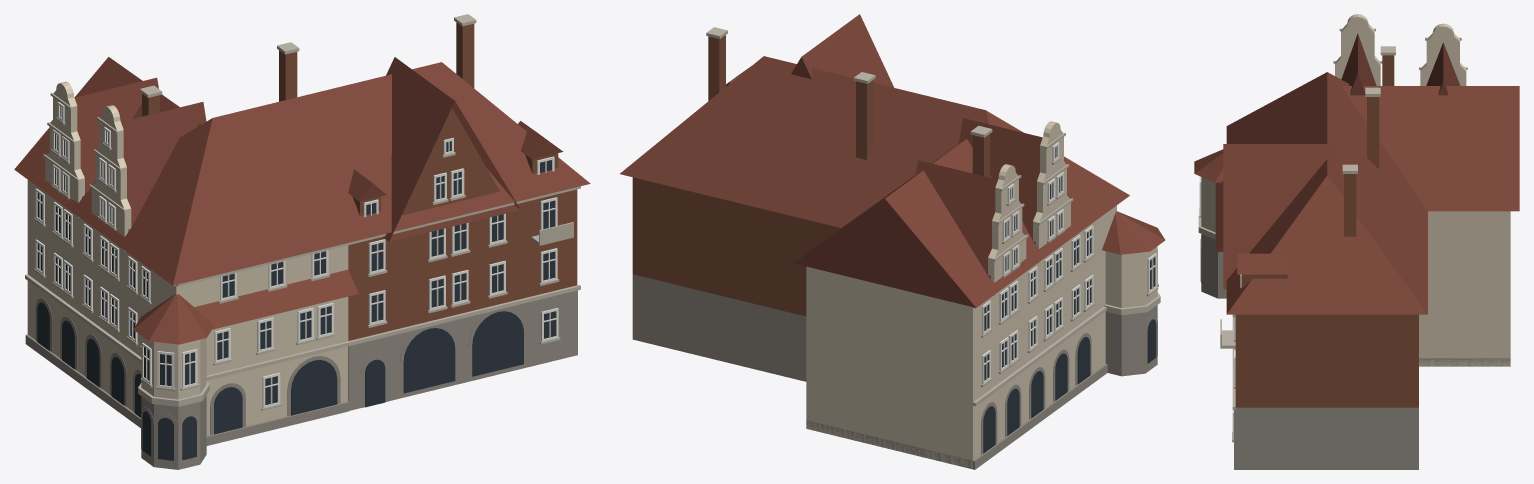
Rendered from kamienica_narozna.glb.
The picture shows the model from 3 angles, left to right: view 1: azimuth 30°, elevation 25°; view 2: azimuth 150°, elevation 25°; view 3: azimuth 270°, elevation 25°; orthographic projection. The views are drawn at different scales.
Visible parts, largest first — view 1: Roof, Walls, Glass, Frames, Trim, Oriel, Chimneys; view 2: Walls, Roof, Frames, Oriel, Glass, Trim, Chimneys; view 3: Roof, Walls, Chimneys, Oriel, Trim.
Part boxes in pixels (box(x1,y1,x2,y2)): Roof: box(14, 57, 590, 344); Walls: box(25, 81, 577, 445); Glass: box(37, 106, 555, 460); Frames: box(35, 102, 558, 408); Trim: box(25, 93, 580, 460); Oriel: box(138, 336, 209, 469); Chimneys: box(139, 14, 476, 116); Walls: box(632, 121, 1116, 469); Roof: box(620, 14, 1165, 307); Frames: box(982, 142, 1157, 384); Oriel: box(1104, 246, 1160, 376); Glass: box(983, 147, 1156, 453); Trim: box(973, 133, 1158, 454); Chimneys: box(706, 27, 992, 177); Roof: box(1194, 33, 1519, 314); Walls: box(1234, 14, 1510, 469); Chimneys: box(1342, 46, 1395, 236); Oriel: box(1198, 177, 1226, 298); Trim: box(1199, 28, 1467, 442).
Bounding box in the file's own units: 31.31 × 20.4 × 21.31.
